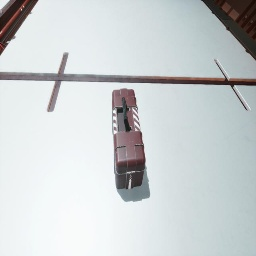FireExtinguisher ]: (0, 42, 6, 50)
FirstAidBox ,: (112, 88, 146, 190)
